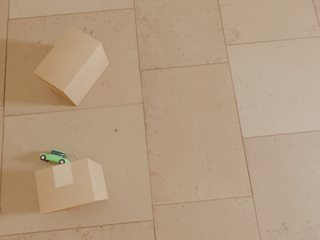box: (33, 26, 109, 106), (35, 158, 108, 214)
toy_car: (40, 149, 69, 164)
